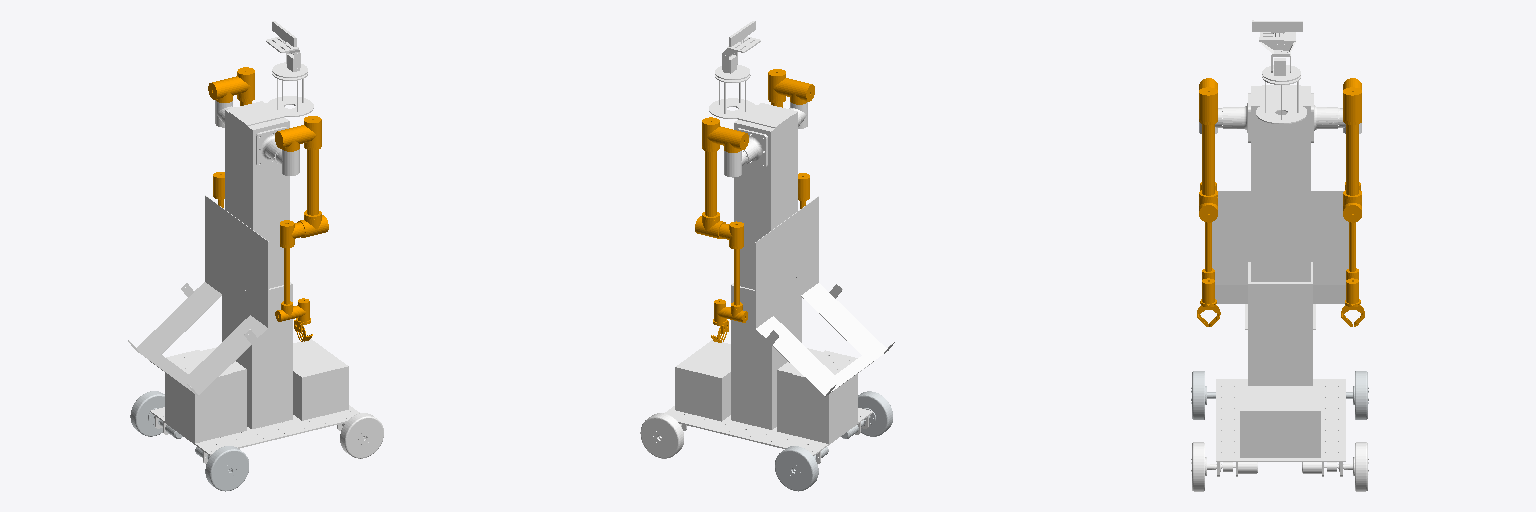
--- Render facts (derived) ---
Views: 3 orthographic renders of the robot side by side, from view 1: azimuth 30°, elevation 25°; view 2: azimuth 150°, elevation 25°; view 3: azimuth 270°, elevation 25°.
Robot: hustac_pg_v2 — 27 links, 26 joints (16 revolute, 8 continuous, 1 prismatic, 1 fixed); root link base_footprint; default pose: every joint at zero.
Visible links, largest first — view 1: base_link, torso_link, rb_wheel, rf_wheel, right_link3, lb_wheel, gaze_link2, right_link5, right_link1, left_link1; view 2: base_link, torso_link, lb_wheel, lf_wheel, left_link3, rb_wheel, gaze_link2, left_link5, right_link1, left_link1; view 3: base_link, torso_link, left_link3, right_link3, gaze_link2, lf_wheel, rf_wheel, rb_wheel, lb_wheel, left_link2, right_link2, gaze_link1.
Boxes of the visible links, x1,y1,x2,y2 form: base_link: (128, 195, 359, 463); torso_link: (215, 72, 313, 288); rb_wheel: (195, 446, 248, 491); rf_wheel: (340, 413, 383, 458); right_link3: (297, 145, 328, 237); lb_wheel: (130, 391, 182, 438); gaze_link2: (266, 21, 300, 70); right_link5: (275, 243, 298, 321); right_link1: (275, 126, 306, 151); left_link1: (208, 77, 239, 102); base_link: (664, 196, 894, 463); torso_link: (709, 75, 807, 289); lb_wheel: (775, 446, 828, 491); lf_wheel: (640, 413, 683, 458); left_link3: (695, 146, 725, 238); rb_wheel: (841, 391, 892, 438); gaze_link2: (722, 21, 760, 72); left_link5: (725, 244, 747, 322); right_link1: (783, 79, 814, 104); left_link1: (717, 127, 748, 152); base_link: (1212, 191, 1348, 476); torso_link: (1199, 75, 1361, 281); left_link3: (1343, 119, 1361, 222); right_link3: (1199, 119, 1217, 222); gaze_link2: (1252, 20, 1302, 72); lf_wheel: (1302, 442, 1368, 491); rf_wheel: (1191, 442, 1257, 491); rb_wheel: (1191, 371, 1215, 419); lb_wheel: (1346, 371, 1368, 419); left_link2: (1343, 87, 1361, 121); right_link2: (1199, 87, 1217, 121); gaze_link1: (1262, 58, 1300, 81).
Bounding box of the posed robot: 0.714 × 0.547 × 1.51 m (x, y, z).
26 mesh visuals loaded from 26 distinct referenced files (26 binary STL).

robot.urdf — hustac_pg_v2:
<robot
  name="hustac_pg_v2">
  <link
    name="base_link">
    <inertial>
      <origin
        xyz="-0.1523 0 0.12489"
        rpy="0 0 0" />
      <mass
        value="89.4624907016849" />
      <inertia
        ixx="1.4339"
        ixy="0.00013298"
        ixz="0.051452"
        iyy="2.6125"
        iyz="0.00047348"
        izz="2.0135" />
    </inertial>
    <visual>
      <origin
        xyz="0 0 0"
        rpy="0 0 0" />
      <geometry>
        <mesh
          filename="package://hustac_pg_v2/meshes/base_link.STL" />
      </geometry>
      <material
        name="">
        <color
          rgba="1 1 1 1" />
      </material>
    </visual>
    <collision>
      <origin
        xyz="0 0 0"
        rpy="0 0 0" />
      <geometry>
        <mesh
          filename="package://hustac_pg_v2/meshes/base_link.STL" />
      </geometry>
    </collision>
  </link>
  <link
    name="torso_link">
    <inertial>
      <origin
        xyz="0.0007982 0 0.31611"
        rpy="0 0 0" />
      <mass
        value="17.045" />
      <inertia
        ixx="0.61932"
        ixy="-4.0034E-05"
        ixz="-0.0043639"
        iyy="0.57083"
        iyz="-0.00015823"
        izz="0.10862" />
    </inertial>
    <visual>
      <origin
        xyz="0 0 0"
        rpy="0 0 0" />
      <geometry>
        <mesh
          filename="package://hustac_pg_v2/meshes/torso_link.STL" />
      </geometry>
      <material
        name="">
        <color
          rgba="1 1 1 1" />
      </material>
    </visual>
    <collision>
      <origin
        xyz="0 0 0"
        rpy="0 0 0" />
      <geometry>
        <mesh
          filename="package://hustac_pg_v2/meshes/torso_link.STL" />
      </geometry>
    </collision>
  </link>
  <joint
    name="torso_joint"
    type="prismatic">
    <origin
      xyz="-1.5832E-05 -1.5832E-05 0.5"
      rpy="-7.8886E-31 -2.4286E-16 -2.6984E-16" />
    <parent
      link="base_link" />
    <child
      link="torso_link" />
    <axis
      xyz="0 0 1" />
    <limit
      lower="-0.43"
      upper="0"
      effort="0"
      velocity="0" />
  </joint>
  <link
    name="left_link1">
    <inertial>
      <origin
        xyz="0 0.0008606 -0.0037962"
        rpy="0 0 0" />
      <mass
        value="0.282400129639665" />
      <inertia
        ixx="0.00025351"
        ixy="-1.0353E-11"
        ixz="4.7094E-12"
        iyy="0.00015523"
        iyz="-9.2262E-07"
        izz="0.00023525" />
    </inertial>
    <visual>
      <origin
        xyz="0 0 0"
        rpy="0 0 0" />
      <geometry>
        <mesh
          filename="package://hustac_pg_v2/meshes/left_link1.STL" />
      </geometry>
      <material
        name="">
        <color
          rgba="1 0.647 0 1" />
      </material>
    </visual>
    <collision>
      <origin
        xyz="0 0 0"
        rpy="0 0 0" />
      <geometry>
        <mesh
          filename="package://hustac_pg_v2/meshes/left_link1.STL" />
      </geometry>
    </collision>
  </link>
  <joint
    name="left_joint1"
    type="revolute">
    <origin
      xyz="0 0.222 0.61"
      rpy="0 0 1.5708" />
    <parent
      link="torso_link" />
    <child
      link="left_link1" />
    <axis
      xyz="0 0 1" />
    <limit effort="300" velocity="1" lower="-3.14" upper="3.14" />
    <!-- <limit effort="300" velocity="1" lower="1.5708" upper="1.5708" /> -->
  </joint>
  <link
    name="left_link2">
    <inertial>
      <origin
        xyz="9.45305167476818E-10 0.000860606505898143 -0.00379622536975684"
        rpy="0 0 0" />
      <mass
        value="0.2824001142096" />
      <inertia
        ixx="0.000253509580708817"
        ixy="-1.08641723538627E-11"
        ixz="5.26586097434057E-12"
        iyy="0.000155226373044821"
        iyz="-9.22617058430691E-07"
        izz="0.000235253423304767" />
    </inertial>
    <visual>
      <origin
        xyz="0 0 0"
        rpy="0 0 0" />
      <geometry>
        <mesh
          filename="package://hustac_pg_v2/meshes/left_link2.STL" />
      </geometry>
      <material
        name="">
        <color
          rgba="1 0.647 0 1" />
      </material>
    </visual>
    <collision>
      <origin
        xyz="0 0 0"
        rpy="0 0 0" />
      <geometry>
        <mesh
          filename="package://hustac_pg_v2/meshes/left_link2.STL" />
      </geometry>
    </collision>
  </link>
  <joint
    name="left_joint2"
    type="revolute">
    <origin
      xyz="0 -0.0849999999999999 0"
      rpy="1.5707963267949 0 0" />
    <parent
      link="left_link1" />
    <child
      link="left_link2" />
    <axis
      xyz="0 0 1" />
    <limit effort="300" velocity="1" lower="-3.14" upper="3.14" />
  </joint>
  <link
    name="left_link3">
    <inertial>
      <origin
        xyz="2.09170325504715E-09 0.00037942163947207 -0.0993975720132856"
        rpy="0 0 0" />
      <mass
        value="0.640541692148901" />
      <inertia
        ixx="0.00726441985226313"
        ixy="-1.16273689456554E-11"
        ixz="-1.0956096526367E-10"
        iyy="0.00716601967778952"
        iyz="-2.41571265900033E-05"
        izz="0.000321135841128423" />
    </inertial>
    <visual>
      <origin
        xyz="0 0 0"
        rpy="0 0 0" />
      <geometry>
        <mesh
          filename="package://hustac_pg_v2/meshes/left_link3.STL" />
      </geometry>
      <material
        name="">
        <color
          rgba="1 0.647 0 1" />
      </material>
    </visual>
    <collision>
      <origin
        xyz="0 0 0"
        rpy="0 0 0" />
      <geometry>
        <mesh
          filename="package://hustac_pg_v2/meshes/left_link3.STL" />
      </geometry>
    </collision>
  </link>
  <joint
    name="left_joint3"
    type="revolute">
    <origin
      xyz="0 -0.35 0"
      rpy="1.5707963267949 0 0" />
    <parent
      link="left_link2" />
    <child
      link="left_link3" />
    <axis
      xyz="0 0 1" />
    <limit effort="300" velocity="1" lower="-3.14" upper="3.14" />
    <!-- <limit effort="300" velocity="1" lower="0" upper="0" /> -->
  </joint>
  <link
    name="left_link4">
    <inertial>
      <origin
        xyz="5.23182497325081E-10 0.000987080498156996 -0.0110209547990487"
        rpy="0 0 0" />
      <mass
        value="0.188640665914286" />
      <inertia
        ixx="0.000135106424724665"
        ixy="-1.24512886603136E-11"
        ixz="4.47078440440258E-12"
        iyy="0.000108943726861082"
        iyz="-2.05214060471245E-06"
        izz="8.93151006462272E-05" />
    </inertial>
    <visual>
      <origin
        xyz="0 0 0"
        rpy="0 0 0" />
      <geometry>
        <mesh
          filename="package://hustac_pg_v2/meshes/left_link4.STL" />
      </geometry>
      <material
        name="">
        <color
          rgba="1 0.647 0 1" />
      </material>
    </visual>
    <collision>
      <origin
        xyz="0 0 0"
        rpy="0 0 0" />
      <geometry>
        <mesh
          filename="package://hustac_pg_v2/meshes/left_link4.STL" />
      </geometry>
    </collision>
  </link>
  <joint
    name="left_joint4"
    type="revolute">
    <origin
      xyz="0 -0.0990000000000001 0"
      rpy="-1.5707963267949 -1.11022302462516E-16 3.14159265358979" />
    <parent
      link="left_link3" />
    <child
      link="left_link4" />
    <axis
      xyz="0 0 1" />
    <limit effort="300" velocity="1" lower="-3.14" upper="3.14" />
  </joint>
  <link
    name="left_link5">
    <inertial>
      <origin
        xyz="1.36848732346095E-09 0.000497540428185728 -0.078440352473969"
        rpy="0 0 0" />
      <mass
        value="0.188789060770594" />
      <inertia
        ixx="0.00171650030081302"
        ixy="-1.81891555999539E-12"
        ixz="-1.69828496417892E-11"
        iyy="0.00169655727215824"
        iyz="-7.36791722311758E-06"
        izz="5.19114920499587E-05" />
    </inertial>
    <visual>
      <origin
        xyz="0 0 0"
        rpy="0 0 0" />
      <geometry>
        <mesh
          filename="package://hustac_pg_v2/meshes/left_link5.STL" />
      </geometry>
      <material
        name="">
        <color
          rgba="1 0.647 0 1" />
      </material>
    </visual>
    <collision>
      <origin
        xyz="0 0 0"
        rpy="0 0 0" />
      <geometry>
        <mesh
          filename="package://hustac_pg_v2/meshes/left_link5.STL" />
      </geometry>
    </collision>
  </link>
  <joint
    name="left_joint5"
    type="revolute">
    <origin
      xyz="0 -0.3 0"
      rpy="1.5707963267949 -1.60902701370267E-16 0" />
    <parent
      link="left_link4" />
    <child
      link="left_link5" />
    <axis
      xyz="0 0 1" />
    <limit effort="300" velocity="1" lower="-3.14" upper="3.14" />
  </joint>
  <link
    name="left_link6">
    <inertial>
      <origin
        xyz="6.11908523850957E-10 0.000997680391540134 -0.00297185603629835"
        rpy="0 0 0" />
      <mass
        value="0.0941485774984353" />
      <inertia
        ixx="4.39688594097792E-05"
        ixy="-1.75091815300525E-12"
        ixz="1.02575145125081E-12"
        iyy="2.40728118714626E-05"
        iyz="-2.79147001136473E-07"
        izz="4.03142529145276E-05" />
    </inertial>
    <visual>
      <origin
        xyz="0 0 0"
        rpy="0 0 0" />
      <geometry>
        <mesh
          filename="package://hustac_pg_v2/meshes/left_link6.STL" />
      </geometry>
      <material
        name="">
        <color
          rgba="1 0.647 0 1" />
      </material>
    </visual>
    <collision>
      <origin
        xyz="0 0 0"
        rpy="0 0 0" />
      <geometry>
        <mesh
          filename="package://hustac_pg_v2/meshes/left_link6.STL" />
      </geometry>
    </collision>
  </link>
  <joint
    name="left_joint6"
    type="revolute">
    <origin
      xyz="0 -0.0640000000000001 0"
      rpy="-1.5707963267949 6.93889390390723E-18 -3.14159265358979" />
    <parent
      link="left_link5" />
    <child
      link="left_link6" />
    <axis
      xyz="0 0 1" />
    <limit effort="300" velocity="1" lower="-3.14" upper="3.14" />
  </joint>
  <link
    name="left_link7">
    <inertial>
      <origin
        xyz="3.10255765523237E-10 0.00488175590325657 0.0094593306659026"
        rpy="0 0 0" />
      <mass
        value="0.0238610409992475" />
      <inertia
        ixx="6.6214330650804E-06"
        ixy="3.51067575764802E-14"
        ixz="1.5049175610862E-14"
        iyy="5.93593202992512E-06"
        iyz="-1.62955877142949E-06"
        izz="8.29159974096986E-06" />
    </inertial>
    <visual>
      <origin
        xyz="0 0 0"
        rpy="0 0 0" />
      <geometry>
        <mesh
          filename="package://hustac_pg_v2/meshes/left_link7.STL" />
      </geometry>
      <material
        name="">
        <color
          rgba="1 0.647 0 1" />
      </material>
    </visual>
    <collision>
      <origin
        xyz="0 0 0"
        rpy="0 0 0" />
      <geometry>
        <mesh
          filename="package://hustac_pg_v2/meshes/left_link7.STL" />
      </geometry>
    </collision>
  </link>
  <joint
    name="left_joint7"
    type="revolute">
    <origin
      xyz="0 -0.034 0"
      rpy="-1.5707963267949 3.43339858673896E-17 3.14159265358979" />
    <parent
      link="left_link6" />
    <child
      link="left_link7" />
    <axis
      xyz="0 0 1" />
    <limit effort="300" velocity="1" lower="-3.14" upper="3.14" />
  </joint>
  <link
    name="left_ee_link">
    <inertial>
      <origin
        xyz="-0.0104511249147865 0.0200422330307001 0.00473202669947459"
        rpy="0 0 0" />
      <mass
        value="0.00506893153791106" />
      <inertia
        ixx="2.42978795459253E-06"
        ixy="3.6419508303903E-07"
        ixz="2.13478750983576E-07"
        iyy="1.02186457282365E-06"
        iyz="-6.73507198403219E-07"
        izz="2.46533886484517E-06" />
    </inertial>
    <visual>
      <origin
        xyz="0 0 0"
        rpy="0 0 0" />
      <geometry>
        <mesh
          filename="package://hustac_pg_v2/meshes/left_ee_link.STL" />
      </geometry>
      <material
        name="">
        <color
          rgba="1 0.647 0 1" />
      </material>
    </visual>
    <collision>
      <origin
        xyz="0 0 0"
        rpy="0 0 0" />
      <geometry>
        <mesh
          filename="package://hustac_pg_v2/meshes/left_ee_link.STL" />
      </geometry>
    </collision>
  </link>
  <joint
    name="left_ee_joint"
    type="continuous">
    <origin
      xyz="-0.0110000000000008 0.0105000000000003 0.0221811953944651"
      rpy="1.5707963267949 6.40215462385206E-19 2.24264473650599E-16" />
    <parent
      link="left_link7" />
    <child
      link="left_ee_link" />
    <axis
      xyz="0 0 -1" />
  </joint>
  <link
    name="left_ee_link2">
    <inertial>
      <origin
        xyz="0.0098988779365487 0.020320662696838 0.0047320266994747"
        rpy="0 0 0" />
      <mass
        value="0.005068931537911" />
      <inertia
        ixx="2.44865465013533E-06"
        ixy="-3.25144959237628E-07"
        ixz="-1.94972377252117E-07"
        iyy="1.00299787728082E-06"
        iyz="-6.79095645348363E-07"
        izz="2.46533886484514E-06" />
    </inertial>
    <visual>
      <origin
        xyz="0 0 0"
        rpy="0 0 0" />
      <geometry>
        <mesh
          filename="package://hustac_pg_v2/meshes/left_ee_link2.STL" />
      </geometry>
      <material
        name="">
        <color
          rgba="1 0.647 0 1" />
      </material>
    </visual>
    <collision>
      <origin
        xyz="0 0 0"
        rpy="0 0 0" />
      <geometry>
        <mesh
          filename="package://hustac_pg_v2/meshes/left_ee_link2.STL" />
      </geometry>
    </collision>
  </link>
  <joint
    name="left_ee_joint2"
    type="continuous">
    <origin
      xyz="0.0110000000000001 0.0105000000000002 0.0221811953944651"
      rpy="1.5707963267949 6.40215462385206E-19 2.24264473650599E-16" />
    <parent
      link="left_link7" />
    <child
      link="left_ee_link2" />
    <axis
      xyz="0 0 -1" />
    <mimic joint="left_ee_joint" multiplier="-1.0"/>
  </joint>
  <link
    name="right_link1">
    <inertial>
      <origin
        xyz="-2.87357232453545E-09 0.000860606448409518 -0.00379622823748849"
        rpy="0 0 0" />
      <mass
        value="0.282400129088101" />
      <inertia
        ixx="0.000253509602809457"
        ixy="-1.28341065106255E-11"
        ixz="-6.97934423758907E-12"
        iyy="0.000155226372481429"
        iyz="-9.22617736839297E-07"
        izz="0.000235253415531243" />
    </inertial>
    <visual>
      <origin
        xyz="0 0 0"
        rpy="0 0 0" />
      <geometry>
        <mesh
          filename="package://hustac_pg_v2/meshes/right_link1.STL" />
      </geometry>
      <material
        name="">
        <color
          rgba="1 0.647 0 1" />
      </material>
    </visual>
    <collision>
      <origin
        xyz="0 0 0"
        rpy="0 0 0" />
      <geometry>
        <mesh
          filename="package://hustac_pg_v2/meshes/right_link1.STL" />
      </geometry>
    </collision>
  </link>
  <joint
    name="right_joint1"
    type="revolute">
    <origin
      xyz="0 -0.222 0.61"
      rpy="-1.44900829258215E-16 -7.14706072102445E-16 1.5707963267949" />
    <parent
      link="torso_link" />
    <child
      link="right_link1" />
    <axis
      xyz="0 0 1" />
    <limit effort="300" velocity="1" lower="-3.14" upper="3.14" />
  </joint>
  <link
    name="right_link2">
    <inertial>
      <origin
        xyz="9.45305167476818E-10 0.000860606505897976 -0.00379622536975677"
        rpy="0 0 0" />
      <mass
        value="0.2824001142096" />
      <inertia
        ixx="0.000253509580708817"
        ixy="-1.08641723936732E-11"
        ixz="5.26586103021678E-12"
        iyy="0.000155226373044821"
        iyz="-9.22617058430763E-07"
        izz="0.000235253423304767" />
    </inertial>
    <visual>
      <origin
        xyz="0 0 0"
        rpy="0 0 0" />
      <geometry>
        <mesh
          filename="package://hustac_pg_v2/meshes/right_link2.STL" />
      </geometry>
      <material
        name="">
        <color
          rgba="1 0.647 0 1" />
      </material>
    </visual>
    <collision>
      <origin
        xyz="0 0 0"
        rpy="0 0 0" />
      <geometry>
        <mesh
          filename="package://hustac_pg_v2/meshes/right_link2.STL" />
      </geometry>
    </collision>
  </link>
  <joint
    name="right_joint2"
    type="revolute">
    <origin
      xyz="0 -0.085 0"
      rpy="1.5707963267949 0 0" />
    <parent
      link="right_link1" />
    <child
      link="right_link2" />
    <axis
      xyz="0 0 1" />
    <limit effort="300" velocity="1" lower="-3.14" upper="3.14" />
  </joint>
  <link
    name="right_link3">
    <inertial>
      <origin
        xyz="-1.26689192470053E-09 0.000379421629088439 -0.0993975720898352"
        rpy="0 0 0" />
      <mass
        value="0.640541691597337" />
      <inertia
        ixx="0.00726441984857735"
        ixy="-1.24436265420934E-11"
        ixz="7.06008805139157E-11"
        iyy="0.00716601967331769"
        iyz="-2.4157125915642E-05"
        izz="0.00032113583990587" />
    </inertial>
    <visual>
      <origin
        xyz="0 0 0"
        rpy="0 0 0" />
      <geometry>
        <mesh
          filename="package://hustac_pg_v2/meshes/right_link3.STL" />
      </geometry>
      <material
        name="">
        <color
          rgba="1 0.647 0 1" />
      </material>
    </visual>
    <collision>
      <origin
        xyz="0 0 0"
        rpy="0 0 0" />
      <geometry>
        <mesh
          filename="package://hustac_pg_v2/meshes/right_link3.STL" />
      </geometry>
    </collision>
  </link>
  <joint
    name="right_joint3"
    type="revolute">
    <origin
      xyz="0 -0.35 0"
      rpy="1.5707963267949 4.69556343789277E-17 0" />
    <parent
      link="right_link2" />
    <child
      link="right_link3" />
    <axis
      xyz="0 0 1" />
    <limit effort="300" velocity="1" lower="-3.14" upper="3.14" />
  </joint>
  <link
    name="right_link4">
    <inertial>
      <origin
        xyz="5.23182608347383E-10 0.000987080498156993 -0.0110209547990489"
        rpy="0 0 0" />
      <mass
        value="0.188640665914286" />
      <inertia
        ixx="0.000135106424724665"
        ixy="-1.24512886755602E-11"
        ixz="4.47078447625519E-12"
        iyy="0.000108943726861082"
        iyz="-2.0521406047124E-06"
        izz="8.93151006462272E-05" />
    </inertial>
    <visual>
      <origin
        xyz="0 0 0"
        rpy="0 0 0" />
      <geometry>
        <mesh
          filename="package://hustac_pg_v2/meshes/right_link4.STL" />
      </geometry>
      <material
        name="">
        <color
          rgba="1 0.647 0 1" />
      </material>
    </visual>
    <collision>
      <origin
        xyz="0 0 0"
        rpy="0 0 0" />
      <geometry>
        <mesh
          filename="package://hustac_pg_v2/meshes/right_link4.STL" />
      </geometry>
    </collision>
  </link>
  <joint
    name="right_joint4"
    type="revolute">
    <origin
      xyz="0 -0.0990000000000004 0"
      rpy="-1.5707963267949 -6.93889390390723E-18 3.14159265358979" />
    <parent
      link="right_link3" />
    <child
      link="right_link4" />
    <axis
      xyz="0 0 1" />
    <limit effort="300" velocity="1" lower="-3.14" upper="3.14" />
  </joint>
  <link
    name="right_link5">
    <inertial>
      <origin
        xyz="-7.64793006702291E-10 0.000497540423684217 -0.0784403525436494"
        rpy="0 0 0" />
      <mass
        value="0.188789060585377" />
      <inertia
        ixx="0.0017165002999699"
        ixy="-2.01929499692028E-12"
        ixz="1.0584619295499E-11"
        iyy="0.00169655727120642"
        iyz="-7.36791715343006E-06"
        izz="5.19114918573948E-05" />
    </inertial>
    <visual>
      <origin
        xyz="0 0 0"
        rpy="0 0 0" />
      <geometry>
        <mesh
          filename="package://hustac_pg_v2/meshes/right_link5.STL" />
      </geometry>
      <material
        name="">
        <color
          rgba="1 0.647 0 1" />
      </material>
    </visual>
    <collision>
      <origin
        xyz="0 0 0"
        rpy="0 0 0" />
      <geometry>
        <mesh
          filename="package://hustac_pg_v2/meshes/right_link5.STL" />
      </geometry>
    </collision>
  </link>
  <joint
    name="right_joint5"
    type="revolute">
    <origin
      xyz="0 -0.3 0"
      rpy="1.5707963267949 1.38489731979257E-16 0" />
    <parent
      link="right_link4" />
    <child
      link="right_link5" />
    <axis
      xyz="0 0 1" />
    <limit effort="300" velocity="1" lower="-3.14" upper="3.14" />
  </joint>
  <link
    name="right_link6">
    <inertial>
      <origin
        xyz="6.11908412828654E-10 0.000997680391540245 -0.00297185603629846"
        rpy="0 0 0" />
      <mass
        value="0.094148577498435" />
      <inertia
        ixx="4.3968859409779E-05"
        ixy="-1.75091816867536E-12"
        ixz="1.02575140575681E-12"
        iyy="2.40728118714625E-05"
        iyz="-2.79147001136418E-07"
        izz="4.03142529145275E-05" />
    </inertial>
    <visual>
      <origin
        xyz="0 0 0"
        rpy="0 0 0" />
      <geometry>
        <mesh
          filename="package://hustac_pg_v2/meshes/right_link6.STL" />
      </geometry>
      <material
        name="">
        <color
          rgba="1 0.647 0 1" />
      </material>
    </visual>
    <collision>
      <origin
        xyz="0 0 0"
        rpy="0 0 0" />
      <geometry>
        <mesh
          filename="package://hustac_pg_v2/meshes/right_link6.STL" />
      </geometry>
    </collision>
  </link>
  <joint
    name="right_joint6"
    type="revolute">
    <origin
      xyz="0 -0.0639999999999999 0"
      rpy="-1.5707963267949 -1.11022302462516E-16 -3.14159265358979" />
    <parent
      link="right_link5" />
    <child
      link="right_link6" />
    <axis
      xyz="0 0 1" />
    <limit effort="300" velocity="1" lower="-3.14" upper="3.14" />
  </joint>
  <link
    name="right_link7">
    <inertial>
      <origin
        xyz="-3.1025271240992E-10 -0.00488175590325302 0.0094593306659026"
        rpy="0 0 0" />
      <mass
        value="0.0238610409992475" />
      <inertia
        ixx="6.62143306508118E-06"
        ixy="3.51064172185128E-14"
        ixz="-1.50487913469646E-14"
        iyy="5.9359320299251E-06"
        iyz="1.62955877142993E-06"
        izz="8.29159974097066E-06" />
    </inertial>
    <visual>
      <origin
        xyz="0 0 0"
        rpy="0 0 0" />
      <geometry>
        <mesh
          filename="package://hustac_pg_v2/meshes/right_link7.STL" />
      </geometry>
      <material
        name="">
        <color
          rgba="1 0.647 0 1" />
      </material>
    </visual>
    <collision>
      <origin
        xyz="0 0 0"
        rpy="0 0 0" />
      <geometry>
        <mesh
          filename="package://hustac_pg_v2/meshes/right_link7.STL" />
      </geometry>
    </collision>
  </link>
  <joint
    name="right_joint7"
    type="revolute">
    <origin
      xyz="0 -0.034 0"
      rpy="1.5707963267949 0 0" />
    <parent
      link="right_link6" />
    <child
      link="right_link7" />
    <axis
      xyz="0 0 1" />
    <limit effort="300" velocity="1" lower="-3.14" upper="3.14" />
  </joint>
  <link
    name="right_ee_link">
    <inertial>
      <origin
        xyz="-0.00786989624640644 0.0211891917028314 0.00473202694465302"
        rpy="0 0 0" />
      <mass
        value="0.00506893153791106" />
      <inertia
        ixx="2.49802240360424E-06"
        ixy="1.78642778393487E-07"
        ixz="1.27813439260075E-07"
        iyy="9.53630123811921E-07"
        iyz="-6.94873260506518E-07"
        izz="2.46533886484516E-06" />
    </inertial>
    <visual>
      <origin
        xyz="0 0 0"
        rpy="0 0 0" />
      <geometry>
        <mesh
          filename="package://hustac_pg_v2/meshes/right_ee_link.STL" />
      </geometry>
      <material
        name="">
        <color
          rgba="1 0.647 0 1" />
      </material>
    </visual>
    <collision>
      <origin
        xyz="0 0 0"
        rpy="0 0 0" />
      <geometry>
        <mesh
          filename="package://hustac_pg_v2/meshes/right_ee_link.STL" />
      </geometry>
    </collision>
  </link>
  <joint
    name="right_ee_joint"
    type="continuous">
    <origin
      xyz="0.0110000000000067 -0.0104999999999925 0.0221811953944649"
      rpy="1.5707963267949 7.47513322448154E-18 -3.14159265358979" />
    <parent
      link="right_link7" />
    <child
      link="right_ee_link" />
    <axis
      xyz="0 0 -1" />
  </joint>
  <link
    name="right_ee_link2">
    <inertial>
      <origin
        xyz="0.00659519493320093 0.0216199102827142 0.00473202669948436"
        rpy="0 0 0" />
      <mass
        value="0.00506893153791103" />
      <inertia
        ixx="2.51377570664327E-06"
        ixy="-8.56492622315812E-08"
        ixz="-8.62419899790844E-08"
        iyy="9.3787682077291E-07"
        iyz="-7.01247062444405E-07"
        izz="2.46533886484516E-06" />
    </inertial>
    <visual>
      <origin
        xyz="0 0 0"
        rpy="0 0 0" />
      <geometry>
        <mesh
          filename="package://hustac_pg_v2/meshes/right_ee_link2.STL" />
      </geometry>
      <material
        name="">
        <color
          rgba="1 0.647 0 1" />
      </material>
    </visual>
    <collision>
      <origin
        xyz="0 0 0"
        rpy="0 0 0" />
      <geometry>
        <mesh
          filename="package://hustac_pg_v2/meshes/right_ee_link2.STL" />
      </geometry>
    </collision>
  </link>
  <joint
    name="right_ee_joint2"
    type="continuous">
    <origin
      xyz="-0.0110000000000009 -0.0104999999999998 0.0221811953944632"
      rpy="1.5707963267949 7.47513322448154E-18 -3.14159265358979" />
    <parent
      link="right_link7" />
    <child
      link="right_ee_link2" />
    <axis
      xyz="0 0 -1" />
    <mimic joint="right_ee_joint" multiplier="-1.0"/>
  </joint>
  <link
    name="gaze_link1">
    <inertial>
      <origin
        xyz="0.00332314338033088 -0.00166685318807747 0.0152159364388744"
        rpy="0 0 0" />
      <mass
        value="0.150566307832226" />
      <inertia
        ixx="0.000115144351223355"
        ixy="1.67570359368863E-06"
        ixz="-1.03958431832344E-05"
        iyy="0.000113564190859189"
        iyz="5.20649724762848E-06"
        izz="0.000139133815813377" />
    </inertial>
    <visual>
      <origin
        xyz="0 0 0"
        rpy="0 0 0" />
      <geometry>
        <mesh
          filename="package://hustac_pg_v2/meshes/gaze_link1.STL" />
      </geometry>
      <material
        name="">
        <color
          rgba="1 1 1 1" />
      </material>
    </visual>
    <collision>
      <origin
        xyz="0 0 0"
        rpy="0 0 0" />
      <geometry>
        <mesh
          filename="package://hustac_pg_v2/meshes/gaze_link1.STL" />
      </geometry>
    </collision>
  </link>
  <joint
    name="gaze_joint1"
    type="revolute">
    <origin
      xyz="0.128043357043904 0.00300000000000078 0.728"
      rpy="2.36658271566304E-30 2.4980018054066E-16 2.93111764559954E-15" />
    <parent
      link="torso_link" />
    <child
      link="gaze_link1" />
    <axis
      xyz="0 0 -1" />
    <limit effort="300" velocity="1" lower="-3.14" upper="3.14" />
  </joint>
  <link
    name="gaze_link2">
    <inertial>
      <origin
        xyz="-0.0933002369417908 -0.0315613902482236 -0.0210661375537418"
        rpy="0 0 0" />
      <mass
        value="0.137563261149672" />
      <inertia
        ixx="0.000246822046761975"
        ixy="-6.36584038385022E-05"
        ixz="1.92838091398628E-05"
        iyy="0.000348311526737285"
        iyz="1.12981590257425E-05"
        izz="0.000223382527067793" />
    </inertial>
    <visual>
      <origin
        xyz="0 0 0"
        rpy="0 0 0" />
      <geometry>
        <mesh
          filename="package://hustac_pg_v2/meshes/gaze_link2.STL" />
      </geometry>
      <material
        name="">
        <color
          rgba="1 1 1 1" />
      </material>
    </visual>
    <collision>
      <origin
        xyz="0 0 0"
        rpy="0 0 0" />
      <geometry>
        <mesh
          filename="package://hustac_pg_v2/meshes/gaze_link2.STL" />
      </geometry>
    </collision>
  </link>
  <joint
    name="gaze_joint2"
    type="revolute">
    <origin
      xyz="0.01 -0.031 0.0259999999999996"
      rpy="-1.69414531841237 1.57079631189374 2.99390185732041" />
    <parent
      link="gaze_link1" />
    <child
      link="gaze_link2" />
    <axis
      xyz="0 0 1" />
    <limit effort="300" velocity="1" lower="-3.14" upper="3.14" />
  </joint>
  <link
    name="lf_wheel">
    <inertial>
      <origin
        xyz="1.02755349089684E-05 -6.13129857995887E-09 -0.0238601812392738"
        rpy="0 0 0" />
      <mass
        value="1.21338763949041" />
      <inertia
        ixx="0.00568352810160651"
        ixy="2.98155597433514E-19"
        ixz="5.73484420208184E-07"
        iyy="0.00568357790753054"
        iyz="2.11994461266658E-15"
        izz="0.00215961172887464" />
    </inertial>
    <visual>
      <origin
        xyz="0 0 0"
        rpy="0 0 0" />
      <geometry>
        <mesh
          filename="package://hustac_pg_v2/meshes/lf_wheel.STL" />
      </geometry>
      <material
        name="">
        <color
          rgba="1 1 1 1" />
      </material>
    </visual>
    <collision>
      <origin
        xyz="0 0 0"
        rpy="0 0 0" />
      <geometry>
        <mesh
          filename="package://hustac_pg_v2/meshes/lf_wheel.STL" />
      </geometry>
    </collision>
  </link>
  <joint
    name="lf_wheel_joint"
    type="continuous">
    <origin
      xyz="0.25798 0.22848 -0.04"
      rpy="-1.5708 -1.0408E-16 0" />
    <parent
      link="base_link" />
    <child
      link="lf_wheel" />
    <axis
      xyz="0 0 -1" />
  </joint>
  <link
    name="lb_wheel">
    <inertial>
      <origin
        xyz="-1.02882751050748E-05 -1.43245970640749E-09 -0.0238601748305925"
        rpy="0 0 0" />
      <mass
        value="1.21338763949041" />
      <inertia
        ixx="0.00568352829157572"
        ixy="1.67716589314498E-14"
        ixz="-5.73482492765679E-07"
        iyy="0.00568357809750189"
        iyz="7.42549312152505E-11"
        izz="0.00215961172887679" />
    </inertial>
    <visual>
      <origin
        xyz="0 0 0"
        rpy="0 0 0" />
      <geometry>
        <mesh
          filename="package://hustac_pg_v2/meshes/lb_wheel.STL" />
      </geometry>
      <material
        name="">
        <color
          rgba="0.898039215686275 0.917647058823529 0.929411764705882 1" />
      </material>
    </visual>
    <collision>
      <origin
        xyz="0 0 0"
        rpy="0 0 0" />
      <geometry>
        <mesh
          filename="package://hustac_pg_v2/meshes/lb_wheel.STL" />
      </geometry>
    </collision>
  </link>
  <joint
    name="lb_wheel_joint"
    type="continuous">
    <origin
      xyz="-0.26202 0.22848 -0.04"
      rpy="-1.5708 -1.0408E-16 0" />
    <parent
      link="base_link" />
    <child
      link="lb_wheel" />
    <axis
      xyz="0 0 -1" />
  </joint>
  <link
    name="rb_wheel">
    <inertial>
      <origin
        xyz="1.02879751315843E-05 9.84803349979302E-11 -0.0238601767444937"
        rpy="0 0 0" />
      <mass
        value="1.21338763949041" />
      <inertia
        ixx="0.00568352810631195"
        ixy="1.23170787805216E-15"
        ixz="5.73479156772246E-07"
        iyy="0.0056835779122419"
        iyz="2.20368682510795E-12"
        izz="0.00215961172888057" />
    </inertial>
    <visual>
      <origin
        xyz="0 0 0"
        rpy="0 0 0" />
      <geometry>
        <mesh
          filename="package://hustac_pg_v2/meshes/rb_wheel.STL" />
      </geometry>
      <material
        name="">
        <color
          rgba="0.898039215686275 0.917647058823529 0.929411764705882 1" />
      </material>
    </visual>
    <collision>
      <origin
        xyz="0 0 0"
        rpy="0 0 0" />
      <geometry>
        <mesh
          filename="package://hustac_pg_v2/meshes/rb_wheel.STL" />
      </geometry>
    </collision>
  </link>
  <joint
    name="rb_wheel_joint"
    type="continuous">
    <origin
      xyz="-0.26202 -0.23252 -0.04"
      rpy="-1.5708 1.8735E-16 3.1416" />
    <parent
      link="base_link" />
    <child
      link="rb_wheel" />
    <axis
      xyz="0 0 1" />
  </joint>
  <link
    name="rf_wheel">
    <inertial>
      <origin
        xyz="-1.02971411043012E-05 -3.71761554873729E-09 -0.0238601903655846"
        rpy="0 0 0" />
      <mass
        value="1.21338763949041" />
      <inertia
        ixx="0.00568352810001746"
        ixy="-2.20797772426673E-16"
        ixz="-5.73484283476812E-07"
        iyy="0.0056835779059417"
        iyz="5.21777890584448E-13"
        izz="0.00215961172887485" />
    </inertial>
    <visual>
      <origin
        xyz="0 0 0"
        rpy="0 0 0" />
      <geometry>
        <mesh
          filename="package://hustac_pg_v2/meshes/rf_wheel.STL" />
      </geometry>
      <material
        name="">
        <color
          rgba="1 1 1 1" />
      </material>
    </visual>
    <collision>
      <origin
        xyz="0 0 0"
        rpy="0 0 0" />
      <geometry>
        <mesh
          filename="package://hustac_pg_v2/meshes/rf_wheel.STL" />
      </geometry>
    </collision>
  </link>
  <joint
    name="rf_wheel_joint"
    type="continuous">
    <origin
      xyz="0.25798 -0.23252 -0.04"
      rpy="-1.5708 1.8735E-16 3.1416" />
    <parent
      link="base_link" />
    <child
      link="rf_wheel" />
    <axis
      xyz="0 0 1" />
  </joint>

  
  <link
    name="base_footprint" />
  <joint
    name="base_footprint_joint"
    type="fixed">
    <origin
      xyz="0 0 0.116"
      rpy="0 0 0" />
    <parent
      link="base_footprint" />
    <child
      link="base_link" />
    <axis
      xyz="0 0 0" />
  </joint>
</robot>
